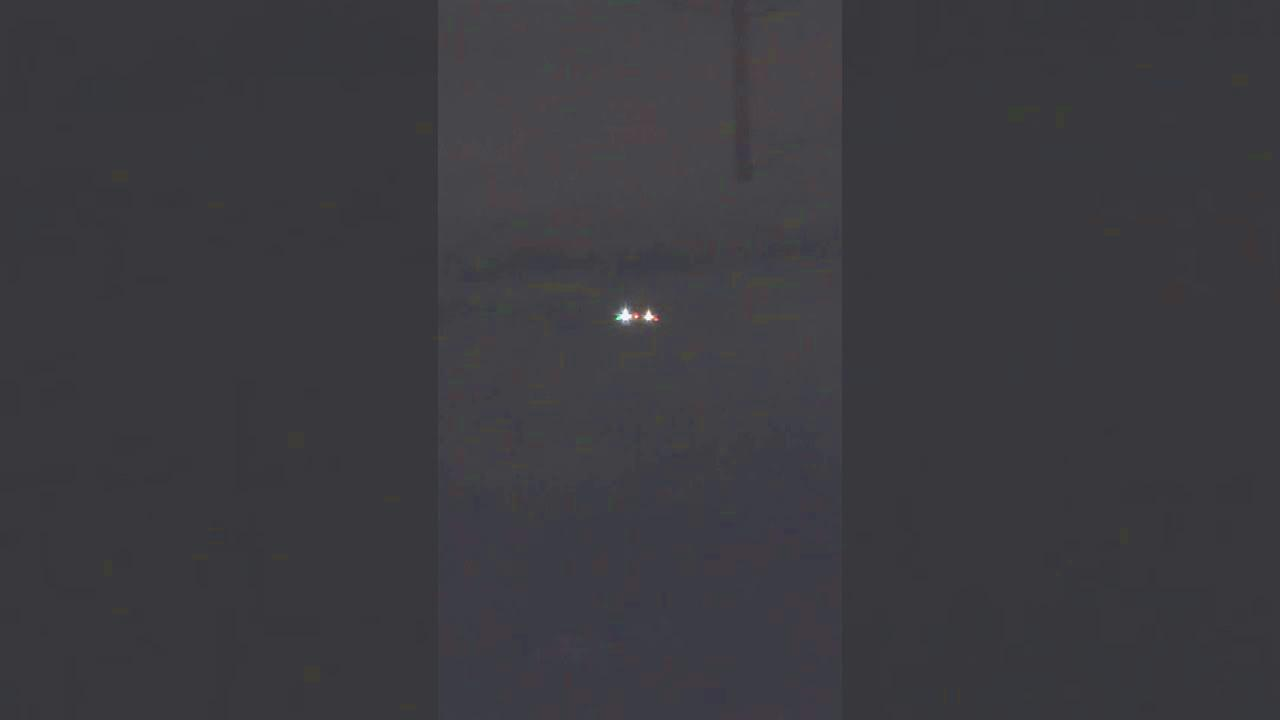Plane: (578, 290, 692, 341)
